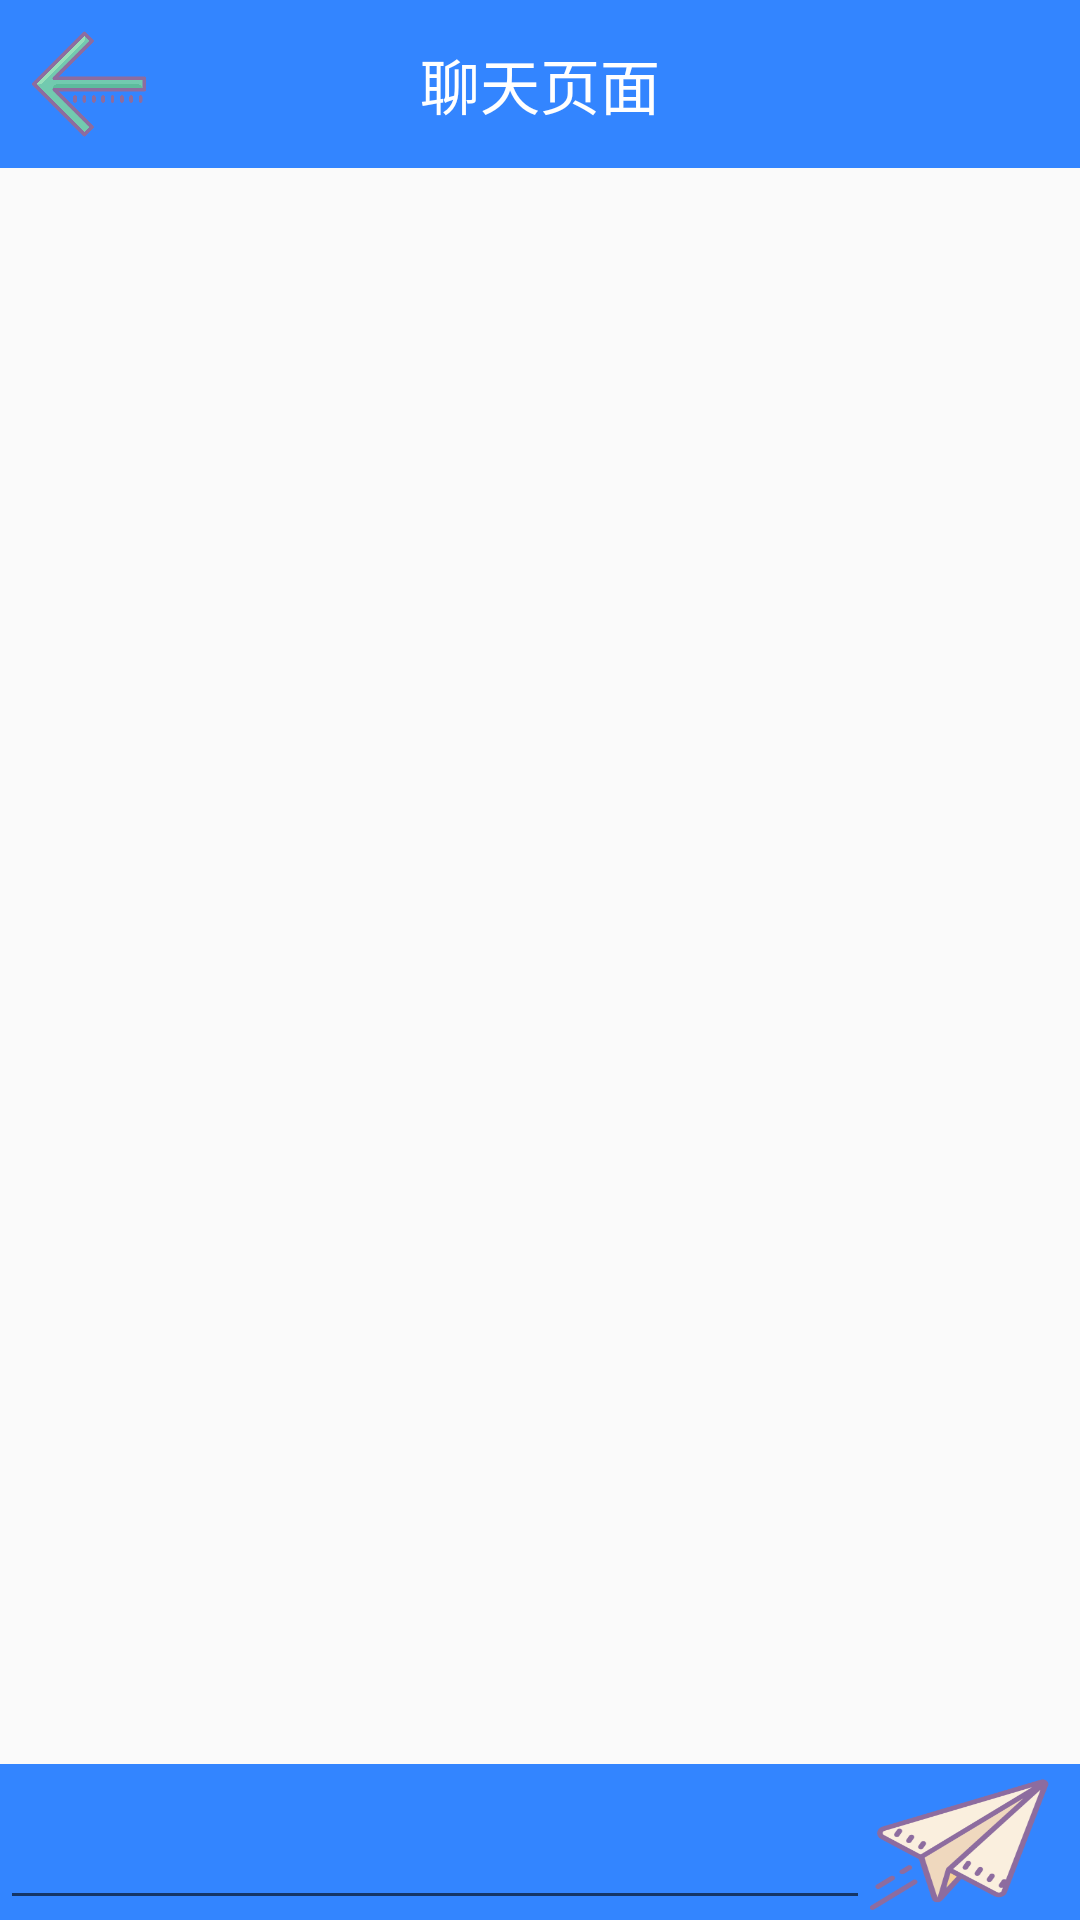

Icons on this 1080*1920 Android screen, each with the point to tap as [x,y]:
back: [89,84]
school plane: [959,1844]
